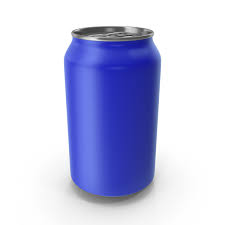can: (65, 26, 164, 200)
